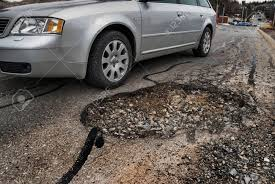potholes: (78, 90, 182, 139)
